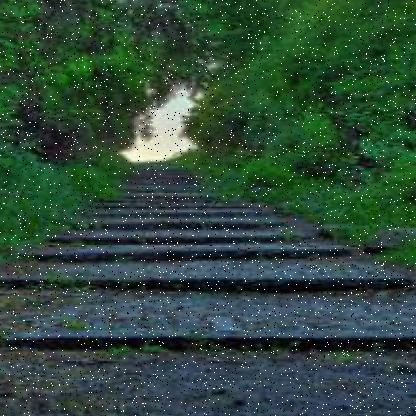stair_up: (24, 201, 405, 381)
